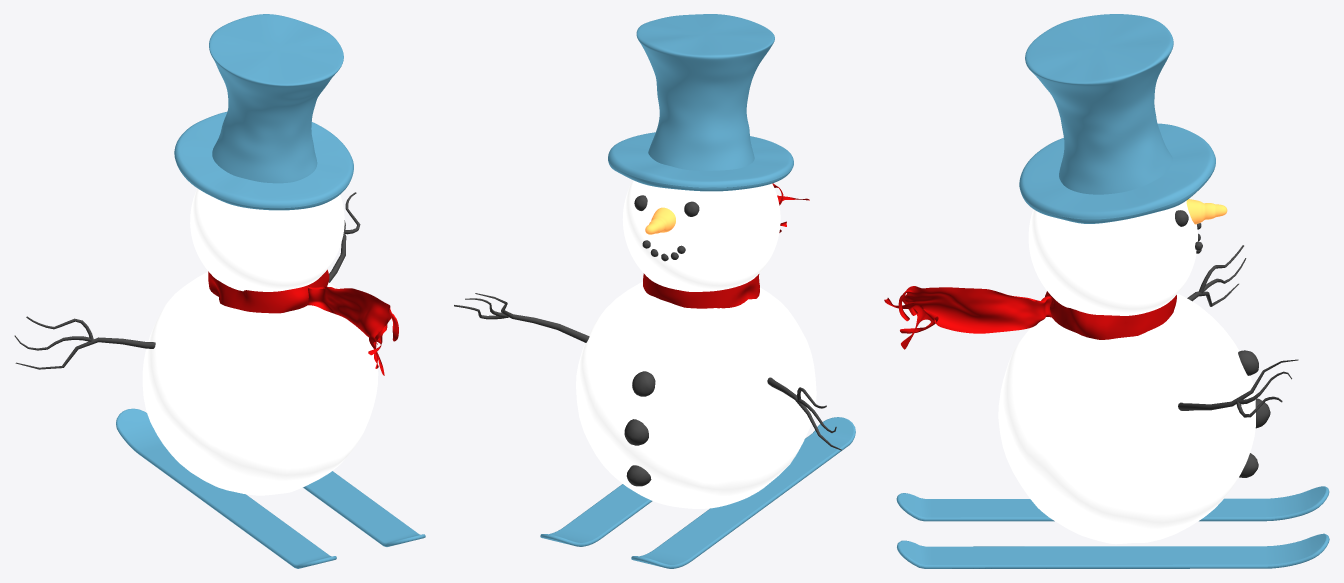
File: snowman_on_skis.glb
3 views of the same model, side by side, from view 1: azimuth 30°, elevation 25°; view 2: azimuth 150°, elevation 25°; view 3: azimuth 270°, elevation 25° (orthographic). The views are drawn at different scales.
Parts seen in each view (by area): view 1: Expression_1; view 2: Expression_1; view 3: Expression_1.
Part boxes in pixels (left/top/right/bottom): Expression_1: left=14, top=14, right=425, bottom=568; Expression_1: left=454, top=14, right=855, bottom=568; Expression_1: left=884, top=14, right=1329, bottom=568.
Size of the model in its own units: 3.43 by 4.12 by 3.35.
